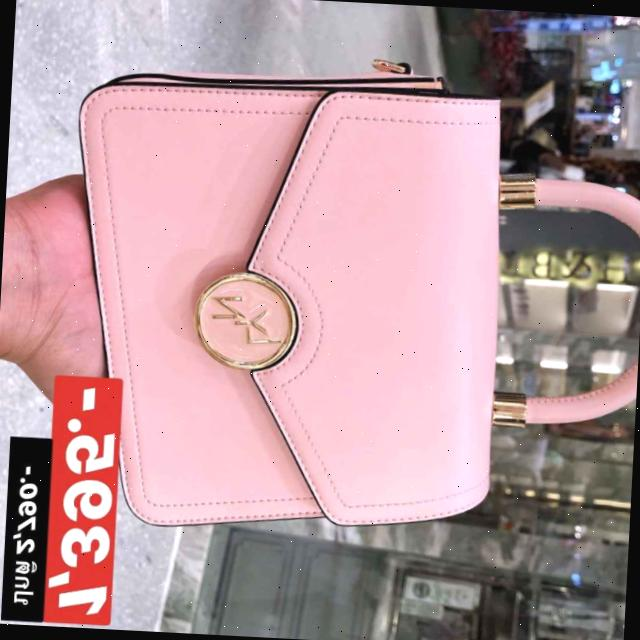handbag: (47, 52, 533, 556)
